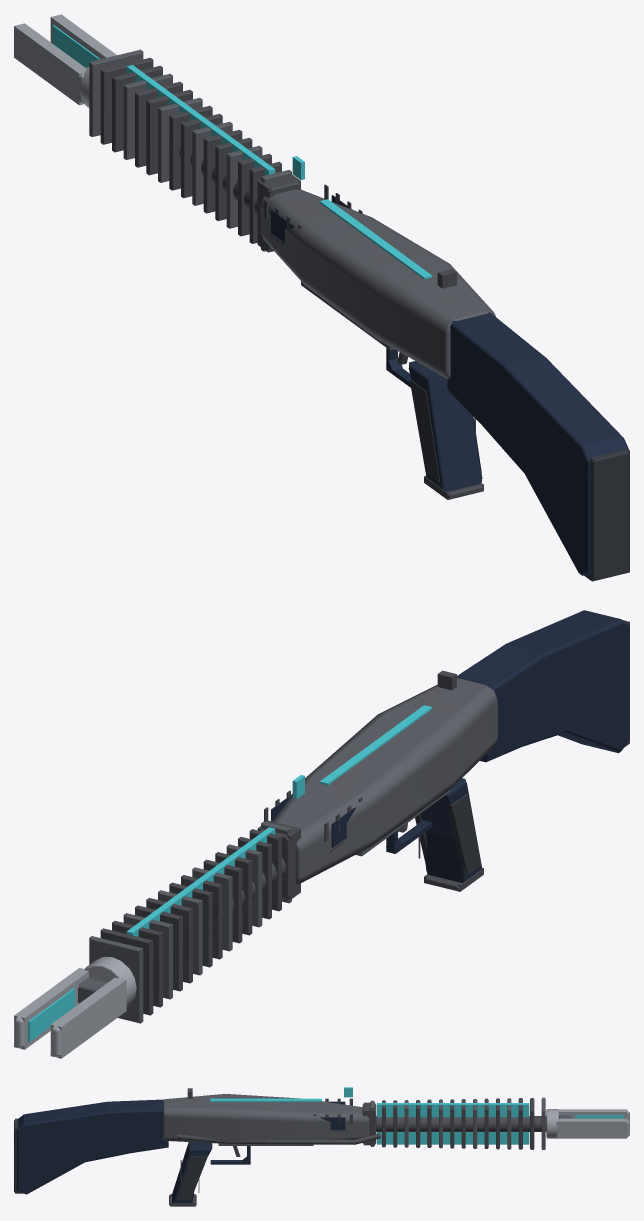
The model's file is e_shock.glb.
3 views of the same model, one above another, from view 1: azimuth 30°, elevation 25°; view 2: azimuth 150°, elevation 25°; view 3: azimuth 270°, elevation 25° (orthographic). The views are drawn at different scales.
Visible parts, largest first — view 1: L0, L1; view 2: L0, L1; view 3: L0, L1.
Boxes of the visible parts, x1,y1,x2,y2 form: L0: (14,15,629,580); L1: (14,14,629,581); L0: (14,610,629,1057); L1: (14,621,629,1058); L0: (14,1087,629,1205); L1: (15,1097,627,1206).
Size of the model in its own units: 0.0783 by 0.1989 by 0.9718.
